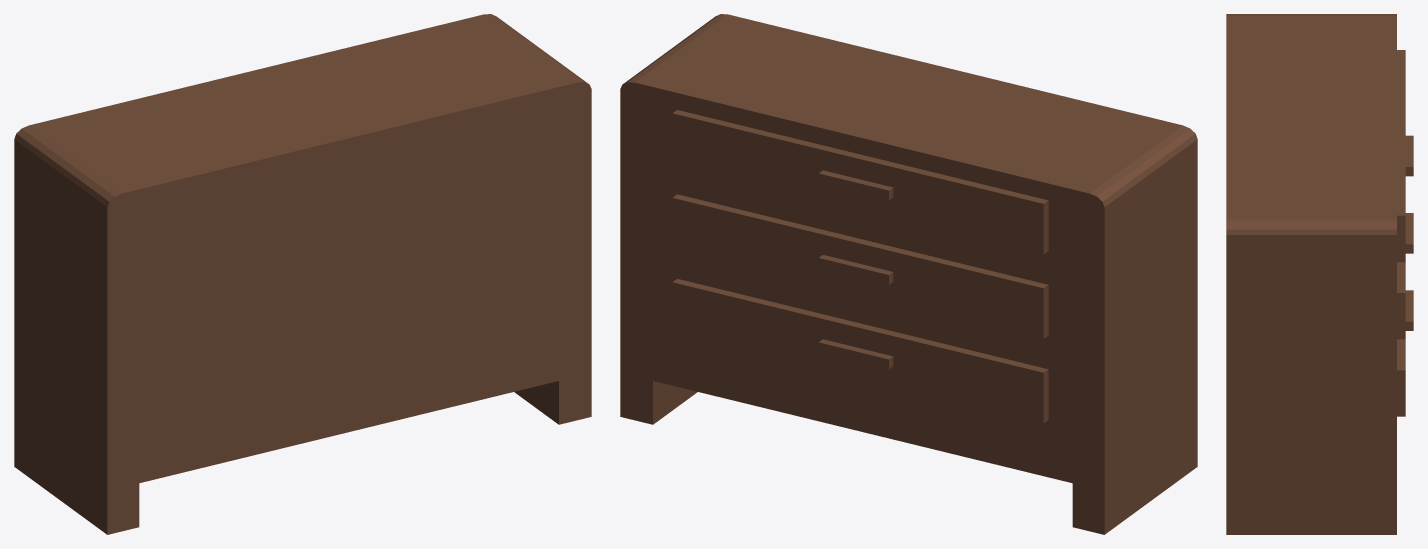
File: Drawer.fbx
3 views of the same model, side by side, from view 1: azimuth 30°, elevation 25°; view 2: azimuth 150°, elevation 25°; view 3: azimuth 270°, elevation 25° (orthographic). The views are drawn at different scales.
Visible parts, largest first — view 1: Drawer; view 2: Drawer; view 3: Drawer.
Boxes of the visible parts, x1,y1,x2,y2 form: Drawer: (14, 14, 591, 534); Drawer: (620, 14, 1197, 534); Drawer: (1226, 14, 1413, 534).
Size of the model in its own units: 1.1 by 2 by 3.
